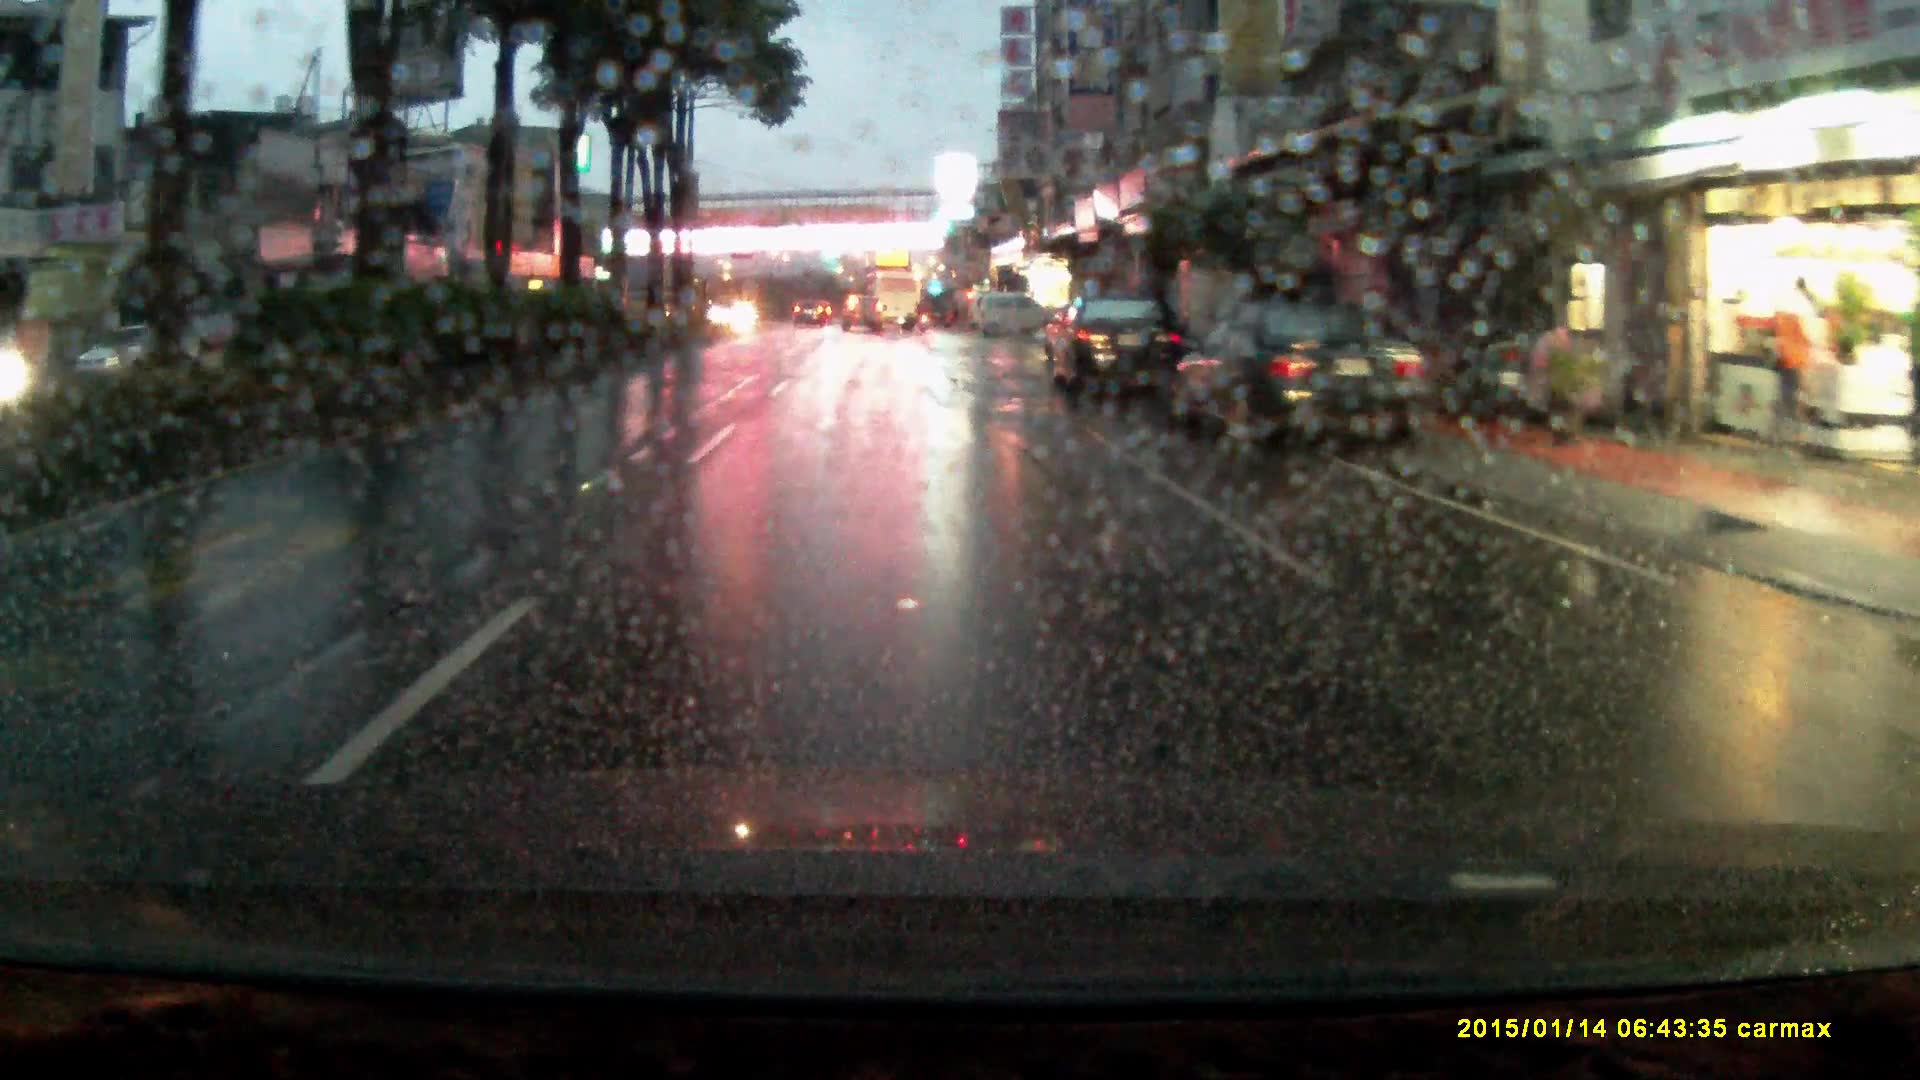vehicle: (1163, 305, 1447, 460), (1048, 294, 1193, 410), (69, 326, 222, 386), (973, 291, 1051, 342), (864, 269, 922, 331), (843, 295, 886, 336), (796, 301, 829, 328)
